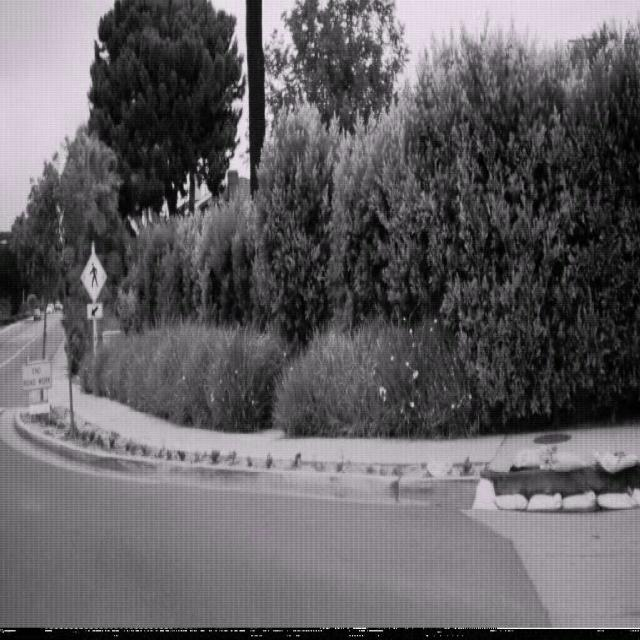pedestrianCrossing: (79, 248, 107, 302)
